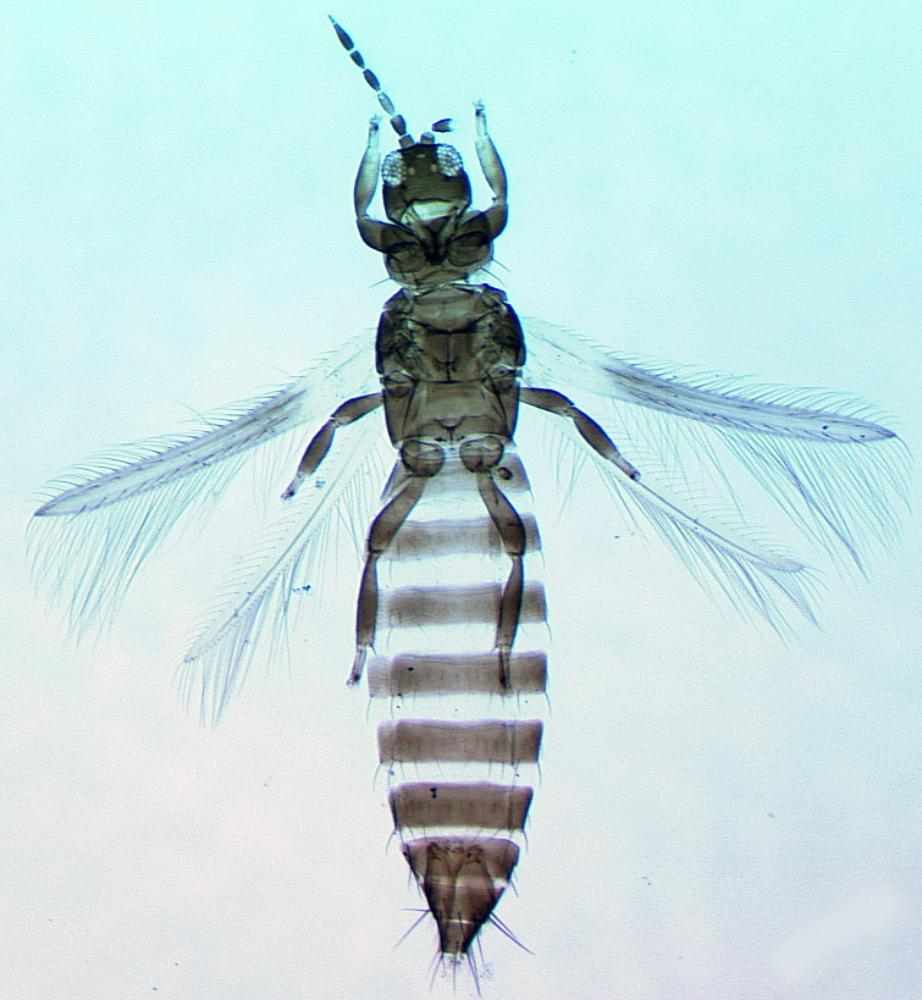Thripidae: (26, 13, 922, 995)
